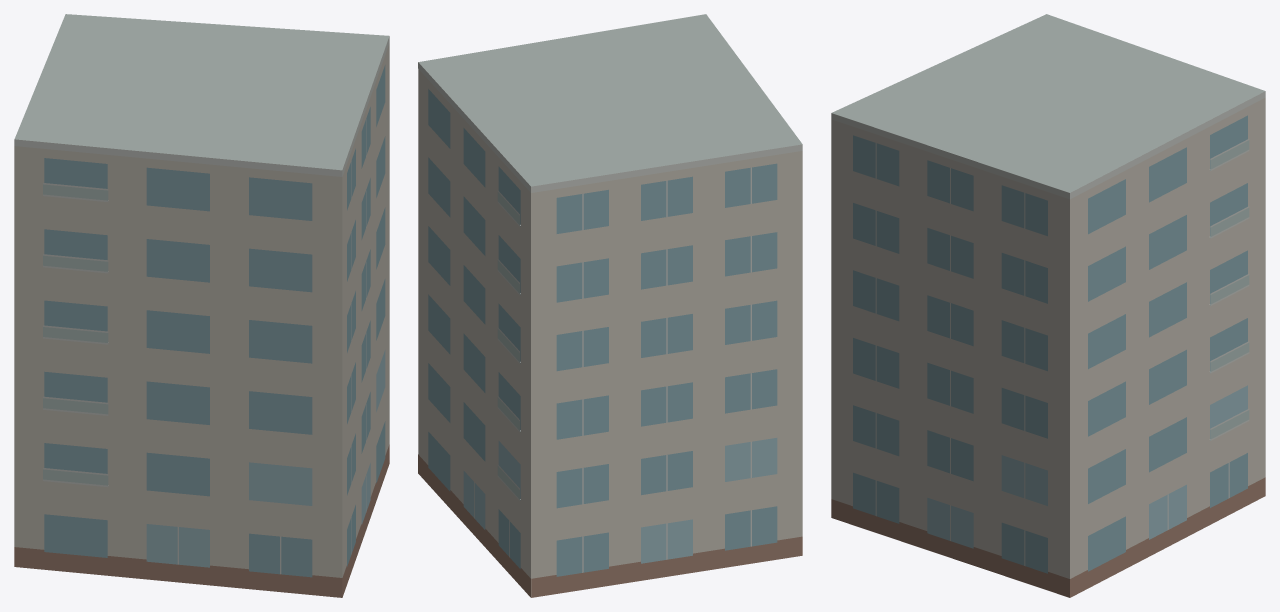
The model's file is survey-upis-32582908.glb.
The picture shows the model from 3 angles, left to right: view 1: azimuth 30°, elevation 25°; view 2: azimuth 150°, elevation 25°; view 3: azimuth 270°, elevation 25°; orthographic projection. The views are drawn at different scales.
Parts seen in each view (by area): view 1: survey-upis-32582908.tmp; view 2: survey-upis-32582908.tmp; view 3: survey-upis-32582908.tmp.
Boxes of the visible parts, box(x1,y1,x2,y2) form: survey-upis-32582908.tmp: box(14, 14, 389, 597); survey-upis-32582908.tmp: box(418, 14, 802, 597); survey-upis-32582908.tmp: box(831, 14, 1265, 597).
Size of the model in its own units: 14.8 by 15.6 by 15.18.
